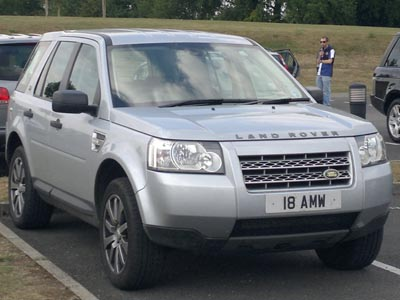licencePlate: (267, 190, 346, 214)
